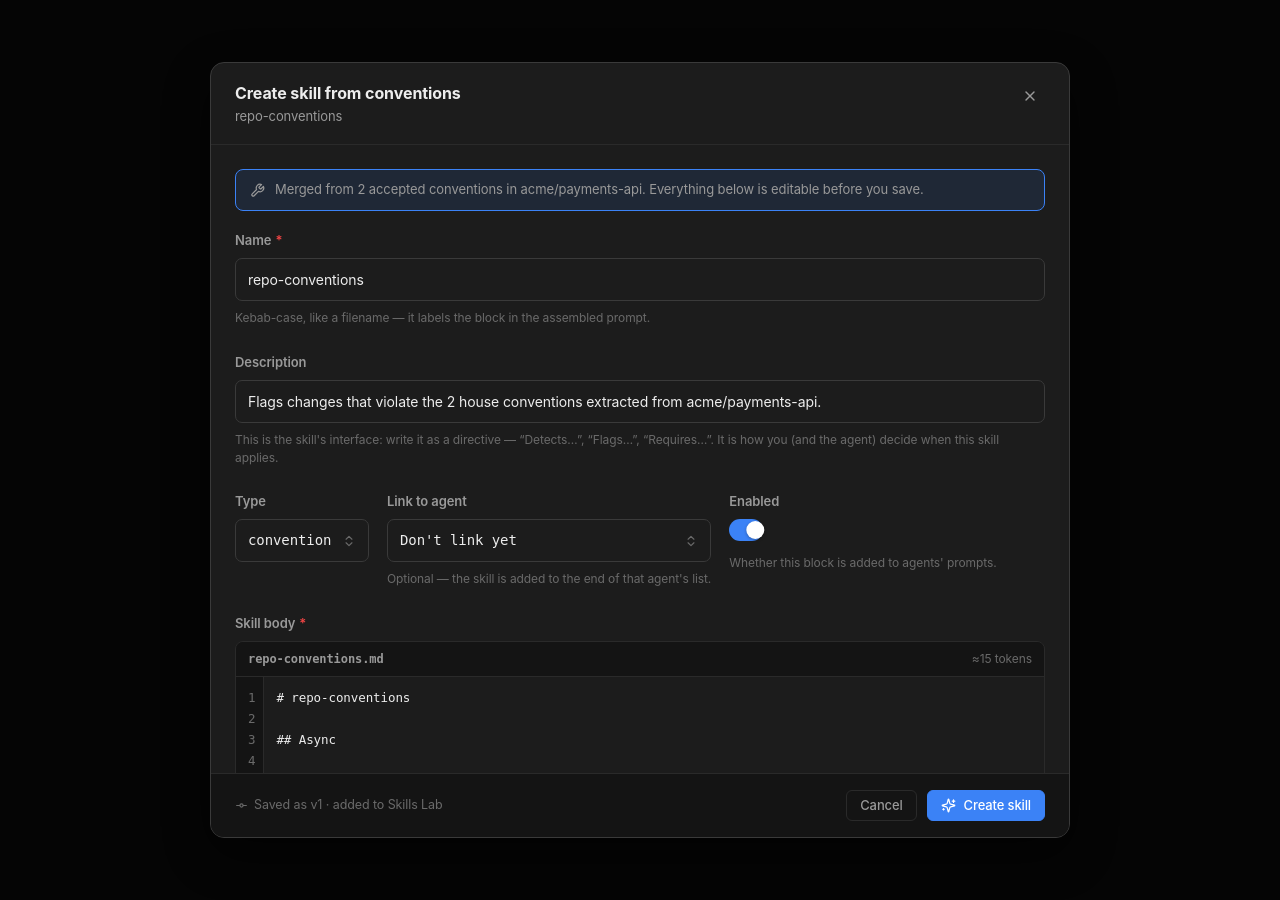
CreateConventionsSkillModal › reports a failed create instead of sitting silent
Click the button "Create skill" at (986, 805), box x1=927 y1=790 x2=1045 y2=821
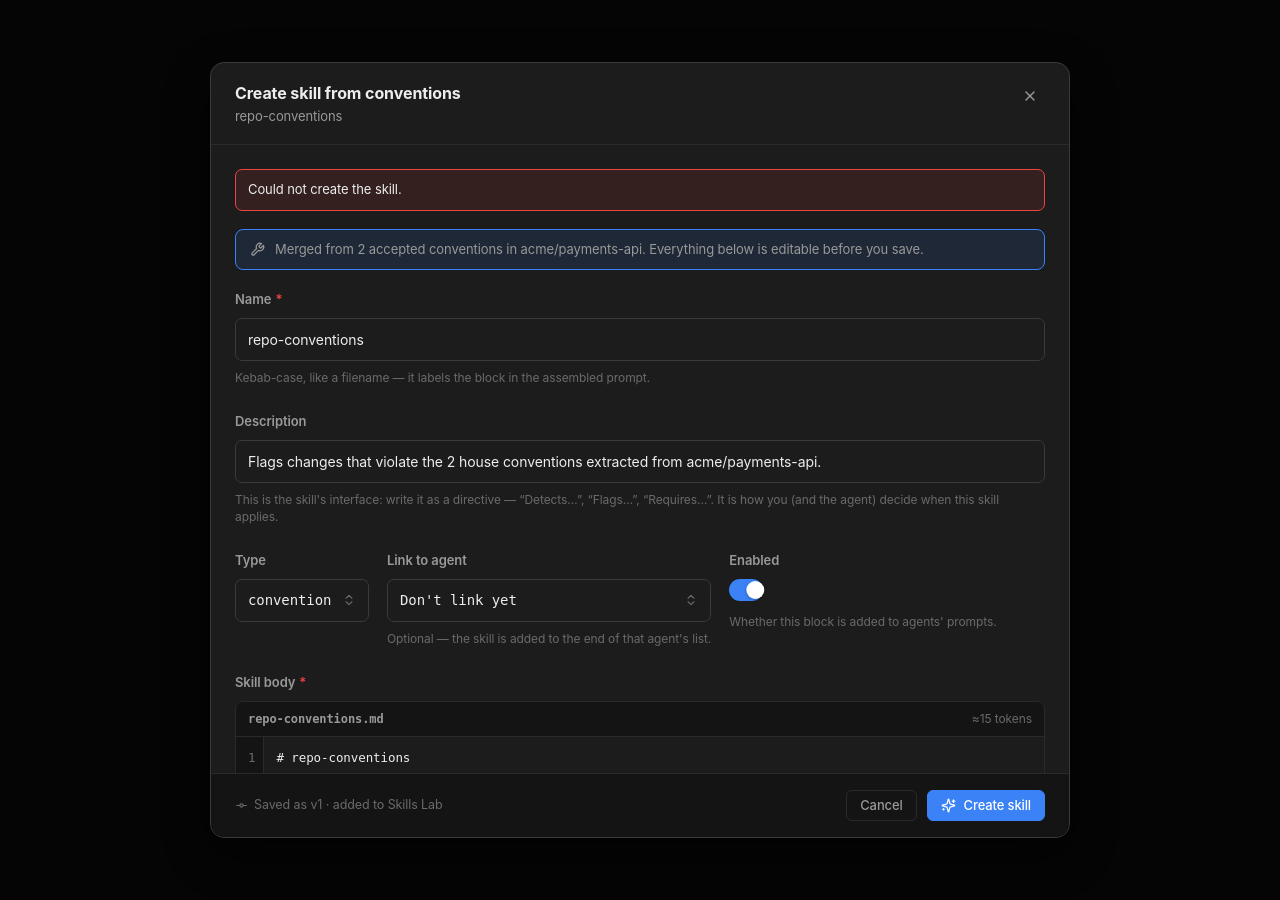
Result: the message shows "Could not create the skill" at x1=248 y1=181 x2=402 y2=197
